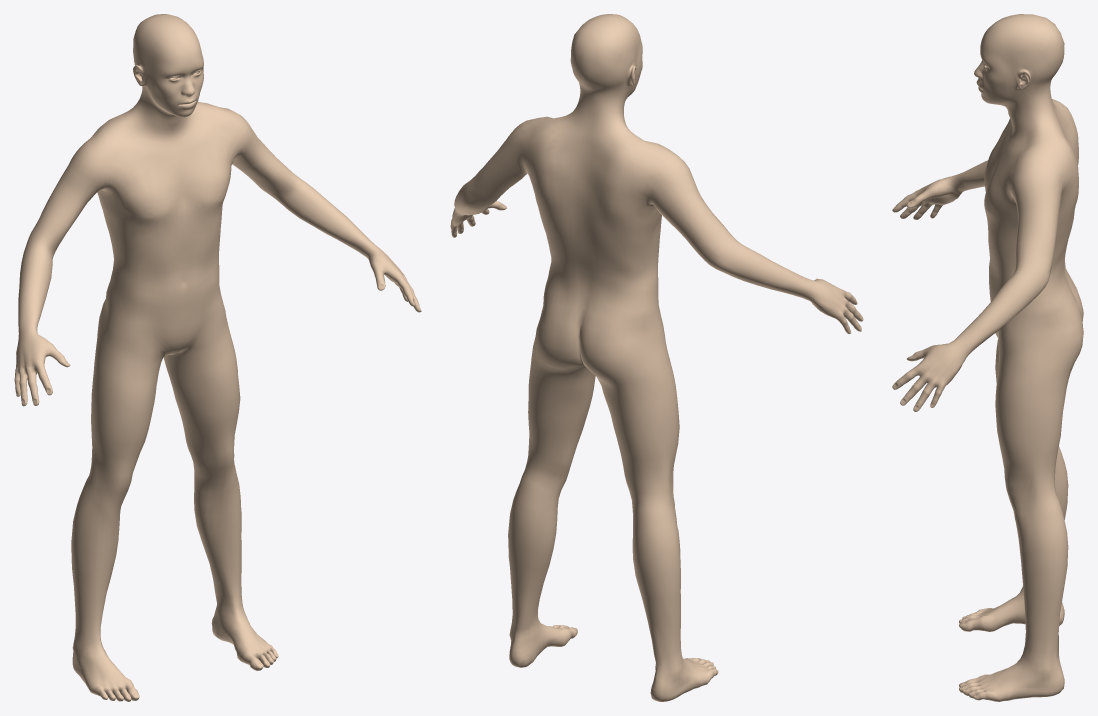
The model's file is placeholder.glb.
3 renders of one model, left to right at view 1: azimuth 30°, elevation 25°; view 2: azimuth 150°, elevation 25°; view 3: azimuth 270°, elevation 25°, orthographic.
Visible parts, largest first — view 1: male; view 2: male; view 3: male.
Part boxes in pixels (bbox=[...]): male: bbox=[14, 14, 421, 701]; male: bbox=[450, 14, 863, 701]; male: bbox=[892, 14, 1083, 701].
Size of the model in its own units: 1.11 by 1.72 by 0.465.
